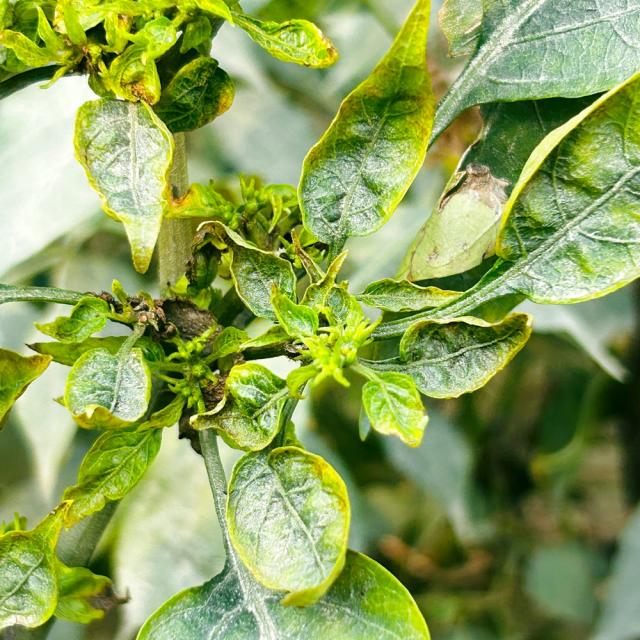Chilli_Leaf_Curl: (0, 0, 639, 638), (0, 0, 339, 274), (354, 69, 639, 353), (135, 433, 431, 639), (1, 0, 338, 132), (296, 0, 438, 254), (492, 70, 638, 304), (425, 0, 639, 151), (224, 443, 352, 608), (72, 96, 176, 274), (188, 360, 298, 452), (62, 344, 152, 431)
